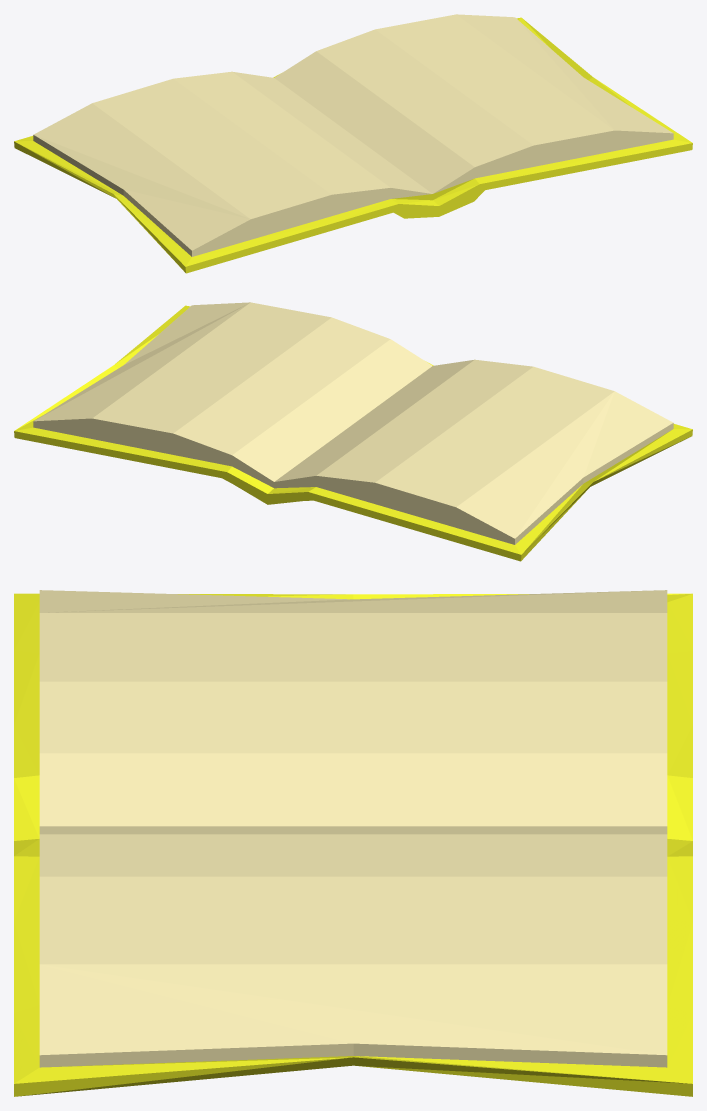
File: open_book_y.fbx
3 views of the same model, one above another, from view 1: azimuth 30°, elevation 25°; view 2: azimuth 150°, elevation 25°; view 3: azimuth 270°, elevation 25° (orthographic). The views are drawn at different scales.
Visible parts, largest first — view 1: Box001; view 2: Box001; view 3: Box001.
Boxes of the visible parts, x1,y1,x2,y2 form: Box001: (14,14,692,273); Box001: (14,302,692,561); Box001: (14,590,692,1096).
Size of the model in its own units: 295 by 23.34 by 173.
